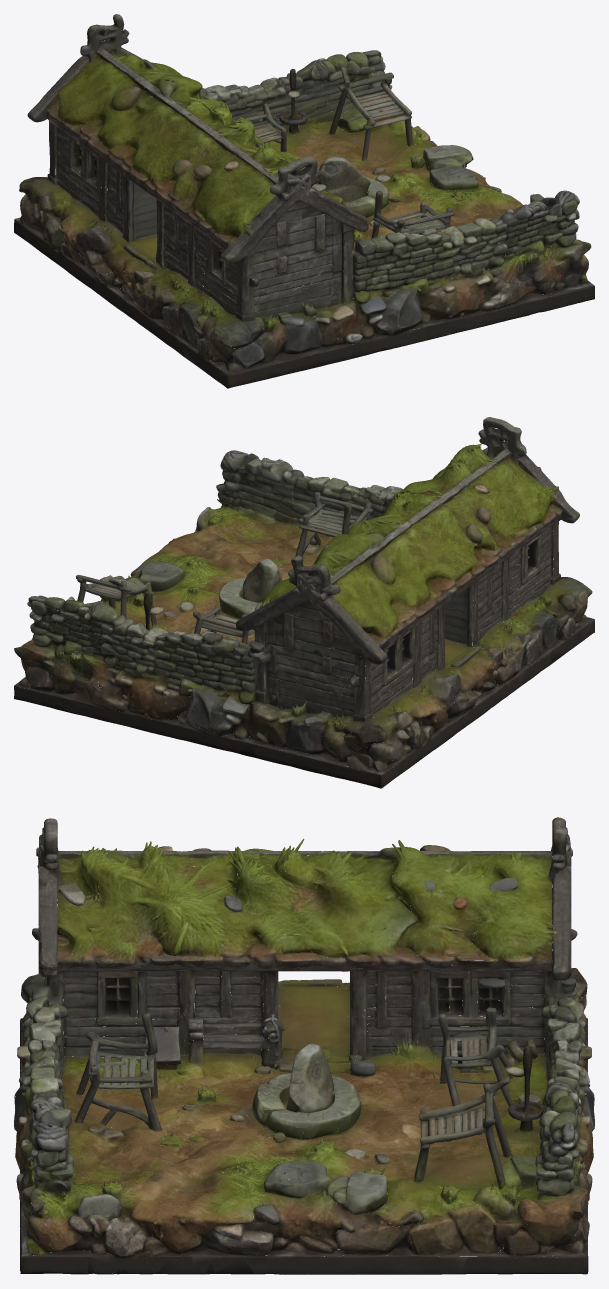
Rendered from area_saltfell_yard_decim.glb.
The picture shows the model from 3 angles, top to bottom: view 1: azimuth 30°, elevation 25°; view 2: azimuth 150°, elevation 25°; view 3: azimuth 270°, elevation 25°; orthographic projection. The views are drawn at different scales.
Visible parts, largest first — view 1: area_saltfell_yard_decim-col; view 2: area_saltfell_yard_decim-col; view 3: area_saltfell_yard_decim-col.
Part boxes in pixels (x1,y1,x2,y2): area_saltfell_yard_decim-col: [14, 14, 594, 388]; area_saltfell_yard_decim-col: [14, 417, 594, 788]; area_saltfell_yard_decim-col: [14, 817, 594, 1274].
Bounding box in the file's own units: 30 × 15.25 × 29.89.
Materials: 1 (1 with a texture image).
